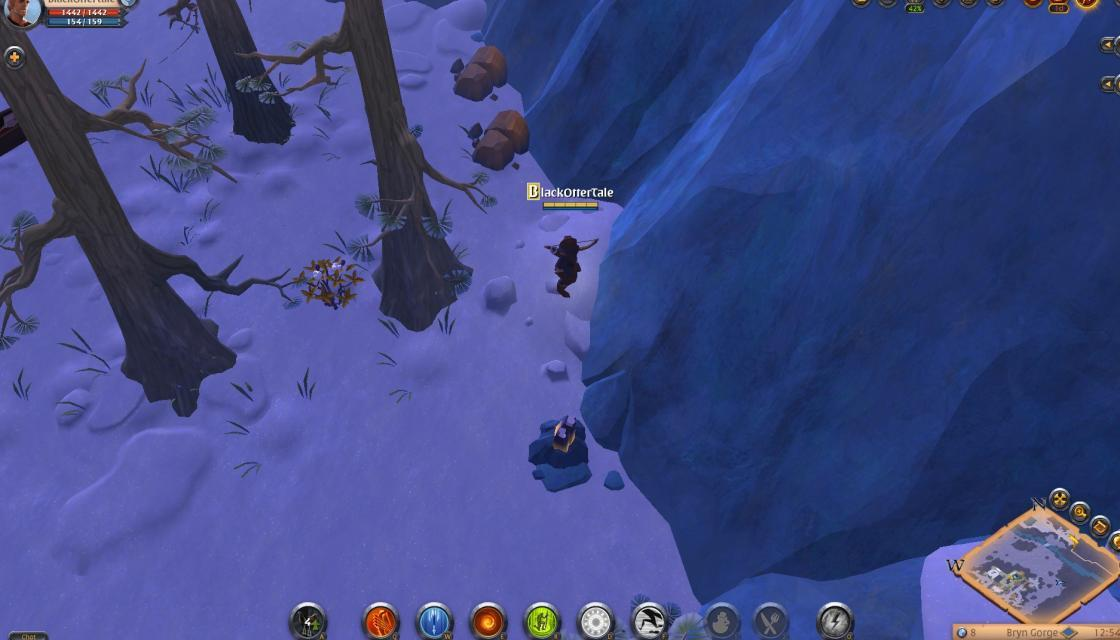copperore: (530, 408, 594, 482)
limestone: (469, 106, 534, 168), (452, 40, 511, 102)
